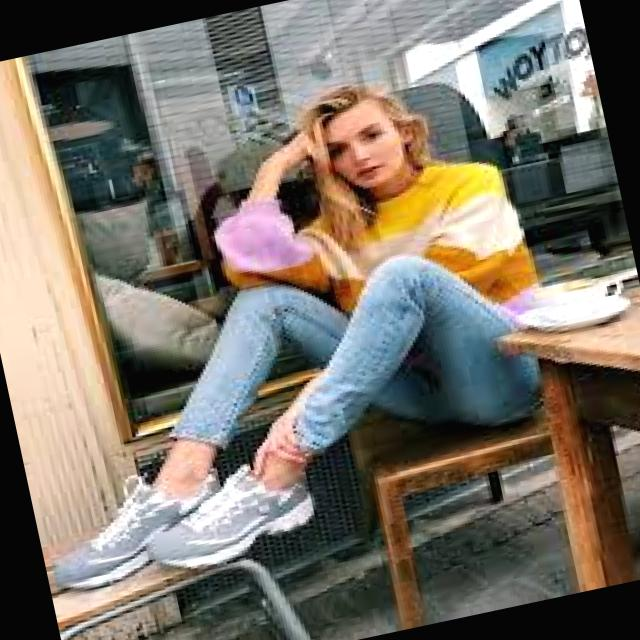foot-wear: (53, 475, 220, 589), (148, 467, 313, 569)
lower-wear: (171, 256, 538, 452)
top-wear: (209, 144, 539, 371)
